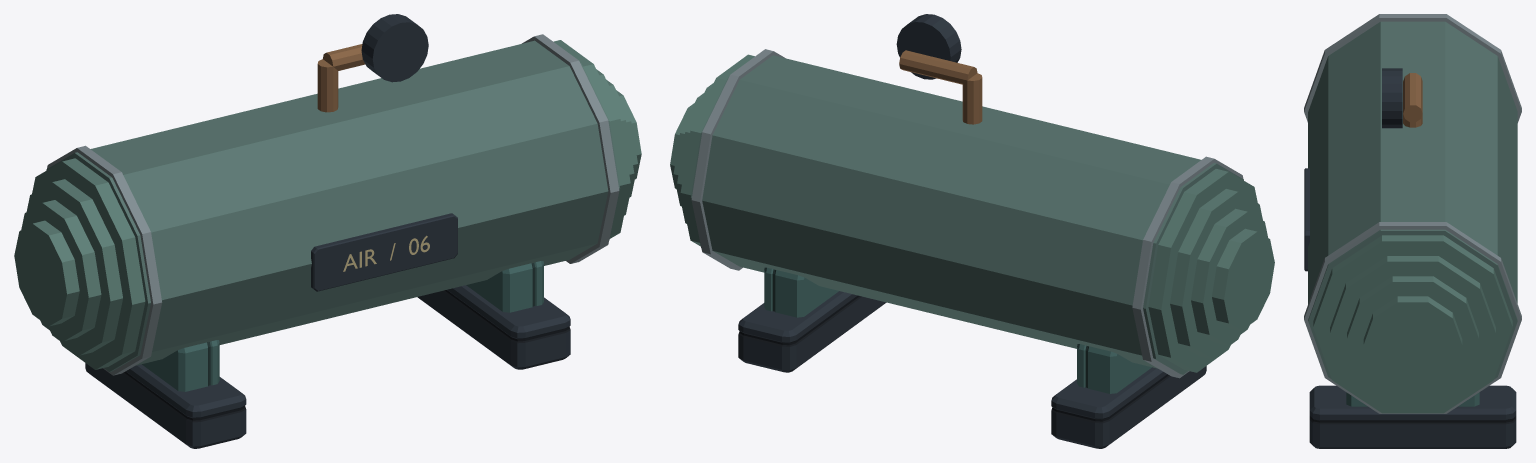
The model's file is F-22_air_receiver.glb.
3 views of the same model, side by side, from view 1: azimuth 30°, elevation 25°; view 2: azimuth 150°, elevation 25°; view 3: azimuth 270°, elevation 25° (orthographic). The views are drawn at different scales.
Visible parts, largest first — view 1: F-22_air_receiver; view 2: F-22_air_receiver; view 3: F-22_air_receiver.
Part boxes in pixels (x1,y1,x2,y2): F-22_air_receiver: (14, 14, 641, 448); F-22_air_receiver: (670, 14, 1274, 448); F-22_air_receiver: (1304, 14, 1521, 448).
Bounding box in the file's own units: 1.95 × 1.11 × 0.689.
